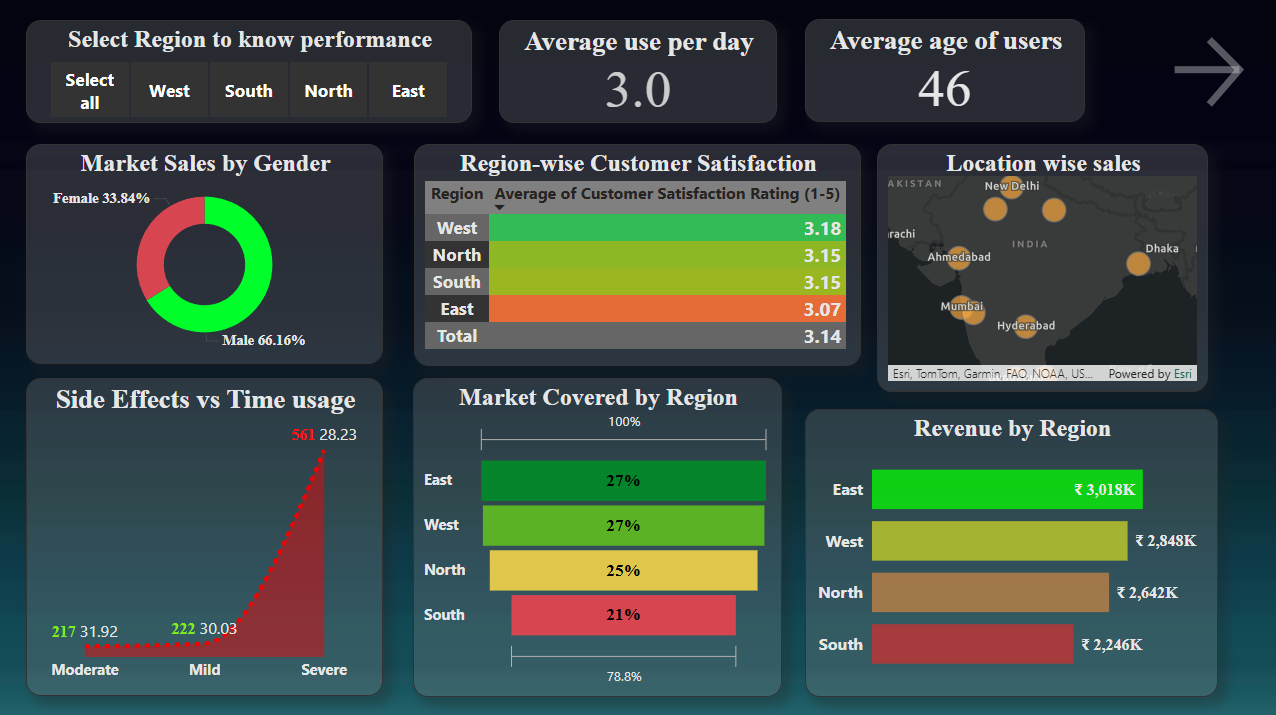

The page's visual inventory and layout, read from the dashboard file:
{"tool":"powerbi","page":{"name":"Page 2","canvas":[1280,720],"ordinal":1},"visuals":[{"type":"actionButton","box":[1168,33,104,82],"z":0},{"type":"card","title":"Average use per day","fields":{"Values":["Avg(Sheet1.Usage Frequency (Times per Day))"]},"box":[501,22,278,103],"z":1000},{"type":"donutChart","title":"Market Sales by Gender","fields":{"Y":["Sum(Sheet1.Units Sold)"],"Category":["Sheet1.Gender"]},"box":[27.7,140,357.6,220],"z":2000},{"type":"clusteredBarChart","title":"Revenue by Region","fields":{"Category":["Sheet1.Region"],"Y":["Sum(Sheet1.Revenuee)"]},"box":[807.3,410.6,412.3,288.1],"z":3000},{"type":"slicer","title":"Select Region to know performance ","fields":{"Values":["Sheet1.Region"]},"box":[27.6,21.6,445.9,103.5],"z":4000},{"type":"pivotTable","title":"Region-wise Customer Satisfaction","fields":{"Rows":["Sheet1.Region"],"Values":["Avg(Sheet1.Customer Satisfaction Rating (1-5))"]},"box":[408.3,140,447,221.5],"z":5000},{"type":"funnel","title":"Market Covered by Region","fields":{"Y":["CountNonNull(Sheet1.Health Improvement Observed?)"],"Category":["Sheet1.Region"]},"box":[408.3,379,368.7,318.9],"z":6000},{"type":"areaChart","title":"Side Effects vs Time usage","fields":{"Category":["Sheet1.Side Effects?"],"Y":["CountNonNull(Sheet1.Customer ID)"]},"box":[28,380,357,318],"z":7000},{"type":"card","title":"Average age of users","fields":{"Values":["Avg(Sheet1.Age)"]},"box":[807,21,280,103],"z":8000},{"type":"esriVisual","title":"Location wise sales ","fields":{"Location":["Sheet1.Location (City, India)"]},"box":[879,140,340.2,248.4],"z":9000}]}

Visuals, with their boxes in screenshot pixels (x1, y1, x2, y2), scaled from the page's 1280x720 canvas onto the 1276x715 screenshot:
actionButton: x1=1164, y1=33, x2=1268, y2=114
"Average use per day" card: x1=499, y1=22, x2=777, y2=124
"Market Sales by Gender" donutChart: x1=28, y1=139, x2=384, y2=358
"Revenue by Region" clusteredBarChart: x1=805, y1=408, x2=1216, y2=694
"Select Region to know performance " slicer: x1=28, y1=21, x2=472, y2=124
"Region-wise Customer Satisfaction" pivotTable: x1=407, y1=139, x2=853, y2=359
"Market Covered by Region" funnel: x1=407, y1=376, x2=775, y2=693
"Side Effects vs Time usage" areaChart: x1=28, y1=377, x2=384, y2=693
"Average age of users" card: x1=804, y1=21, x2=1084, y2=123
"Location wise sales " esriVisual: x1=876, y1=139, x2=1215, y2=386
